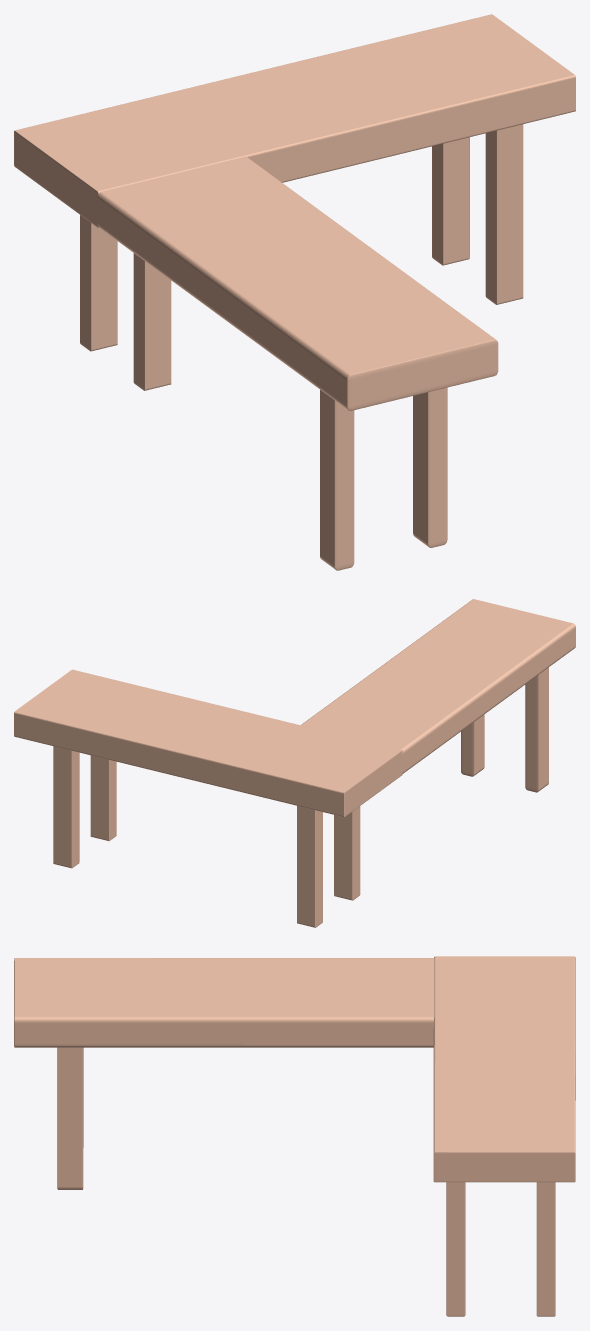
The model's file is Table1.glb.
The picture shows the model from 3 angles, top to bottom: view 1: azimuth 30°, elevation 25°; view 2: azimuth 150°, elevation 25°; view 3: azimuth 270°, elevation 25°; orthographic projection. The views are drawn at different scales.
Parts seen in each view (by area): view 1: Cube.016; view 2: Cube.016; view 3: Cube.016.
Boxes of the visible parts, <box> form: Cube.016: <box>14,14,575,570</box>; Cube.016: <box>14,599,575,927</box>; Cube.016: <box>14,956,575,1316</box>.
Size of the model in its own units: 1.69 by 0.7398 by 2.05.
